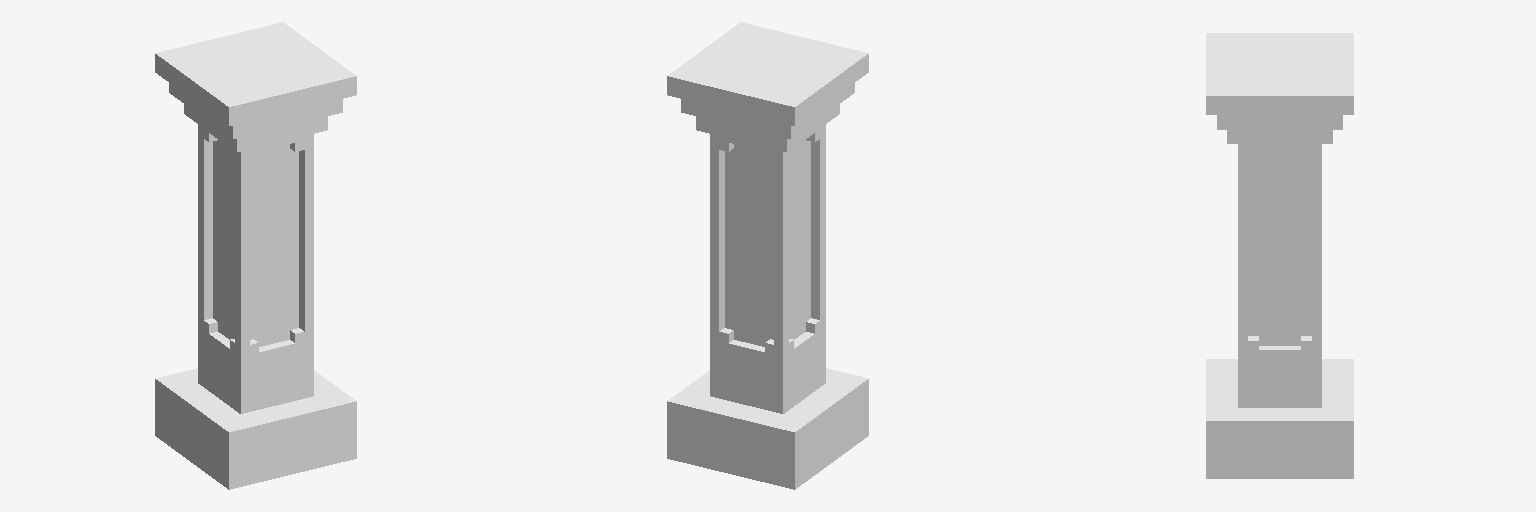
Rendered from newelpost.obj.
3 views of the same model, side by side, from view 1: azimuth 30°, elevation 25°; view 2: azimuth 150°, elevation 25°; view 3: azimuth 270°, elevation 25° (orthographic).
Visible parts, largest first — view 1: object 1; view 2: object 1; view 3: object 1.
Part boxes in pixels (bbox=[...]): object 1: bbox=[155, 22, 356, 489]; object 1: bbox=[667, 22, 868, 489]; object 1: bbox=[1206, 33, 1353, 478].
Bounding box in the file's own units: 1.4 × 4 × 1.4.